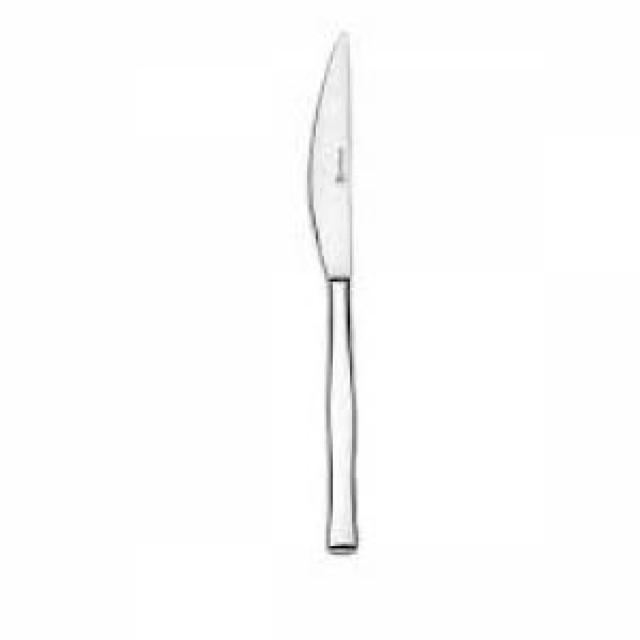knife: (303, 30, 362, 574)
